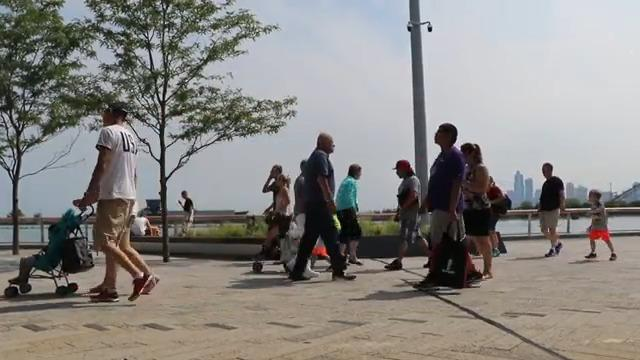no-helmet: (101, 101, 131, 128), (433, 122, 458, 148), (461, 143, 483, 166), (393, 159, 415, 180), (316, 132, 335, 153)
